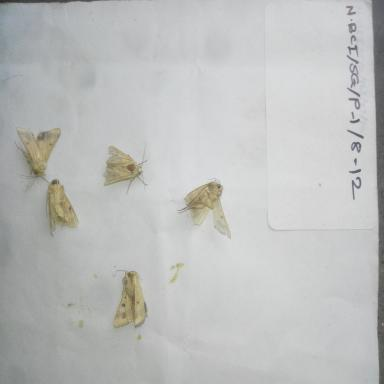abw: (174, 174, 235, 242), (12, 119, 65, 188), (100, 139, 152, 199), (40, 172, 83, 242), (108, 264, 150, 334)
